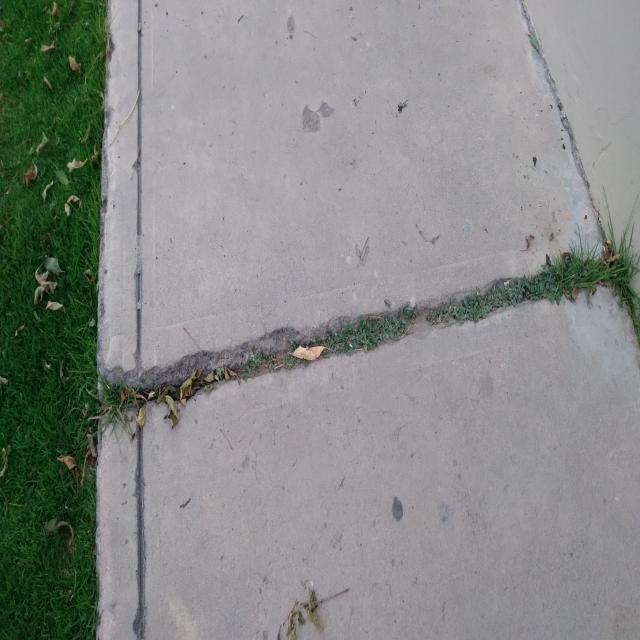hole: (93, 305, 300, 423)
